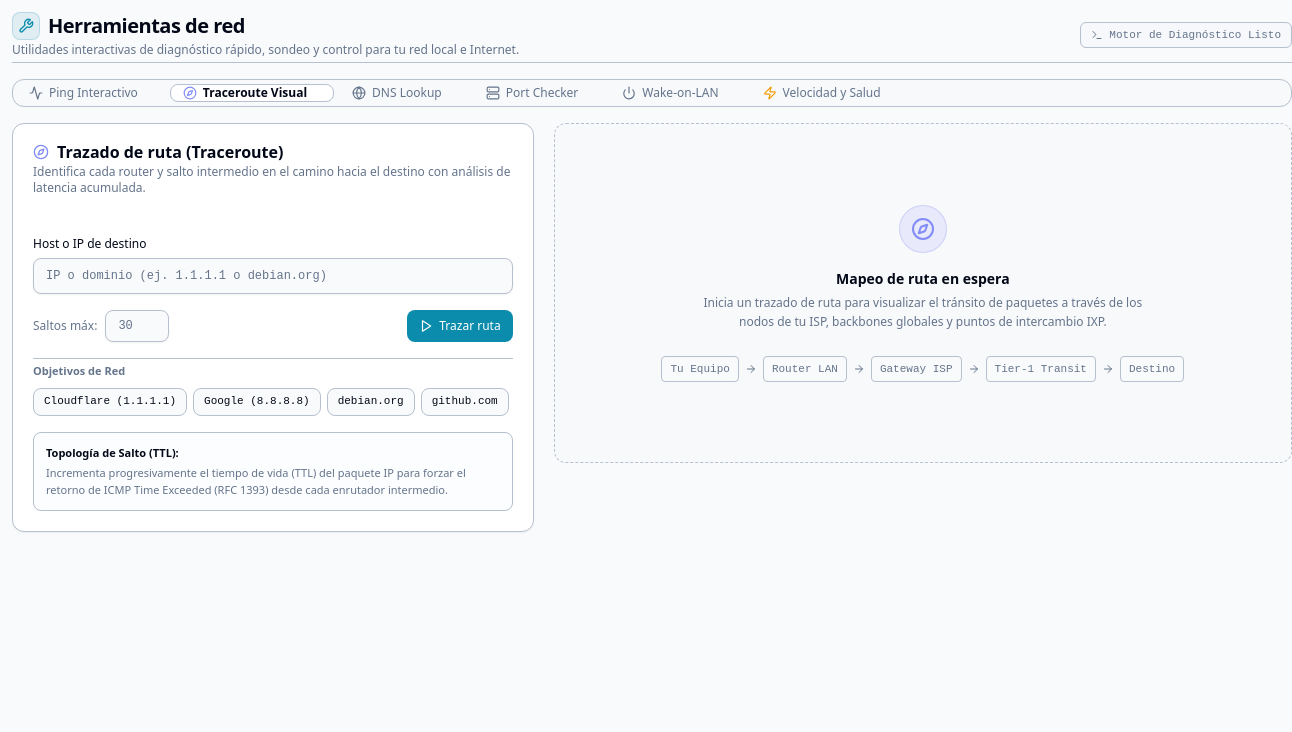
Test case: Tools Screen › muestra error inline con role=alert y aria-invalid al intentar iniciar traceroute con destino vacío
Click the button "Trazar ruta" at (460, 326), box x1=407 y1=310 x2=513 y2=342
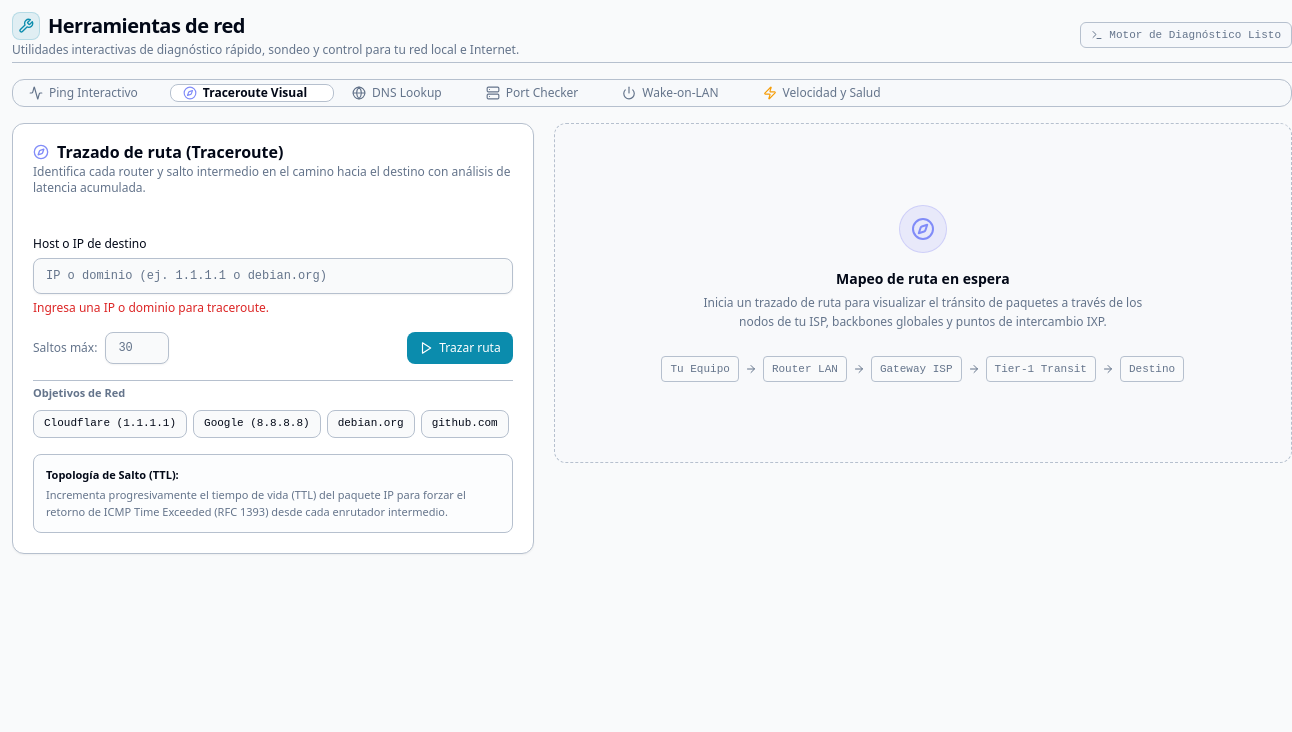
Expected: the message reads "Ingresa una IP o dominio para traceroute.", x1=33 y1=299 x2=269 y2=316
// Escribir en el input limpia el error inline
Type "8.8.8.8" into the field with placeholder "IP o dominio (ej. 1.1.1.1 o debian.org)" at (273, 276), box x1=33 y1=258 x2=513 y2=294
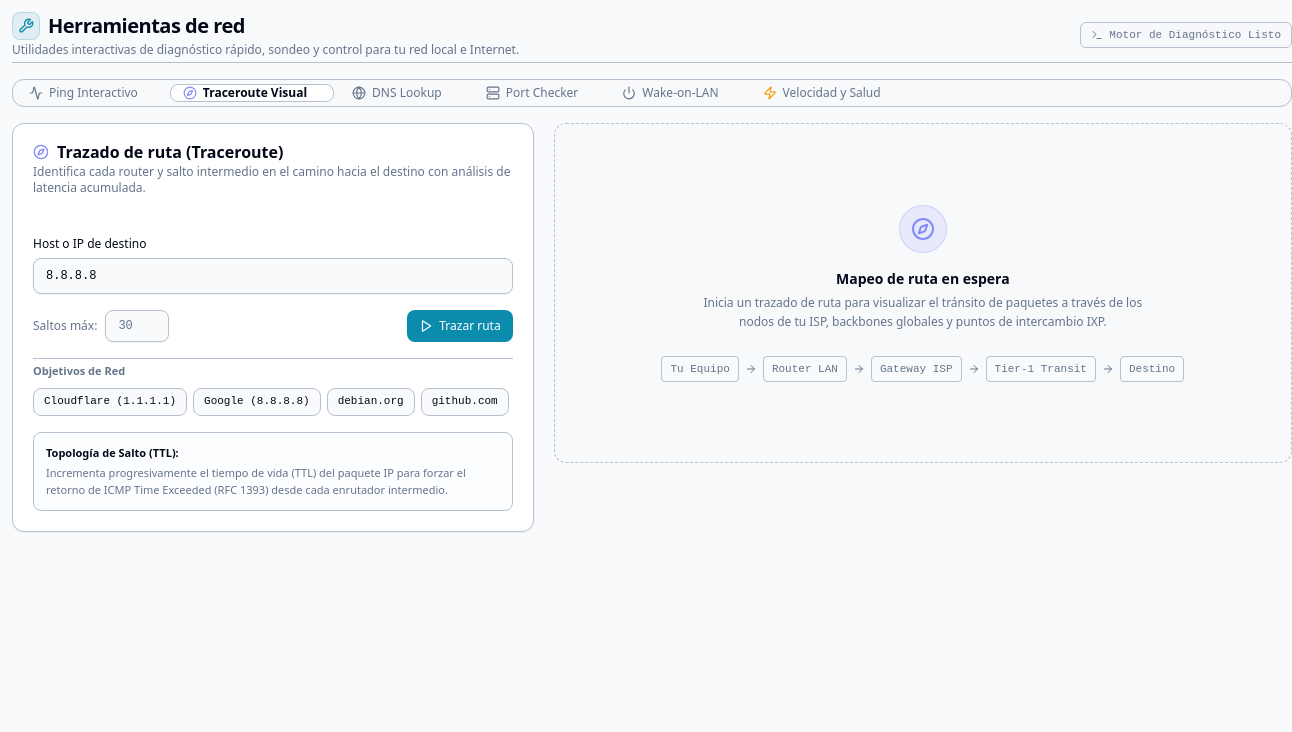
Expected: the message "Ingresa una IP o dominio para traceroute." is gone
